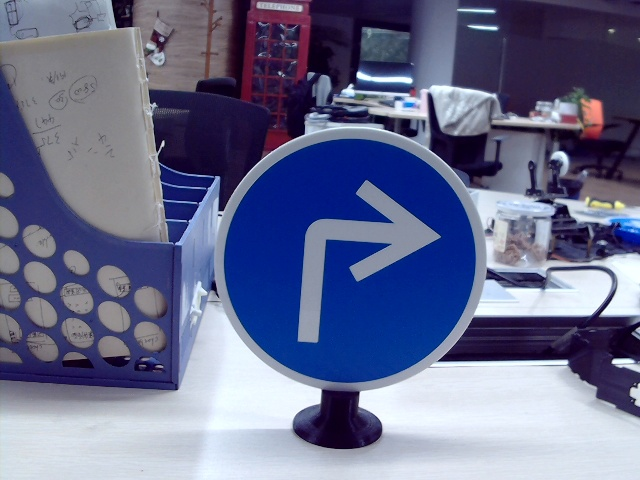turn_right: (285, 171, 435, 347)
